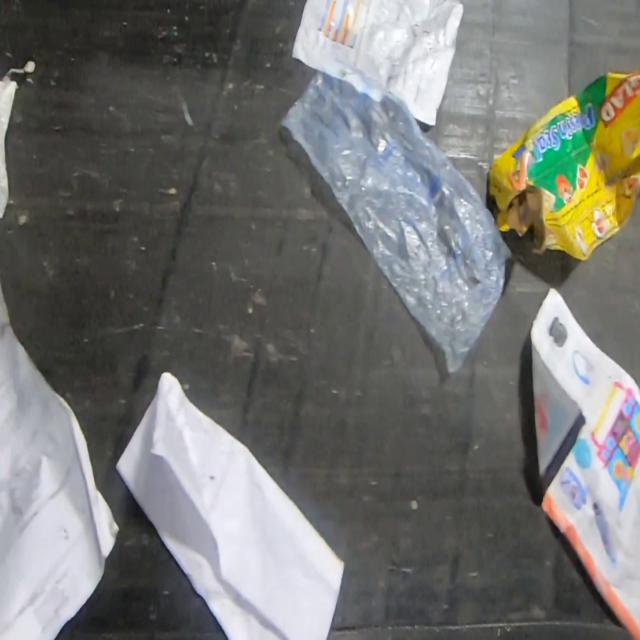cardboard: (485, 69, 640, 266)
soft_plastic: (278, 69, 517, 377)
